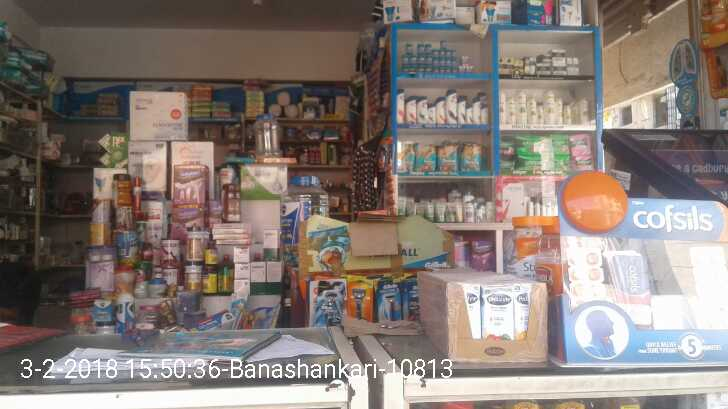beauty: (447, 89, 458, 123), (404, 96, 417, 122), (546, 91, 556, 122), (569, 53, 581, 78), (416, 96, 427, 122), (518, 94, 527, 125), (527, 96, 537, 123), (507, 97, 517, 123), (436, 98, 445, 124), (549, 64, 566, 76), (536, 60, 548, 76), (427, 104, 436, 123), (582, 99, 588, 126), (573, 104, 581, 124), (554, 50, 566, 62), (563, 107, 571, 123)
pharmacy: (511, 134, 554, 159), (458, 141, 485, 173), (413, 142, 437, 173), (515, 157, 553, 173), (435, 145, 455, 171), (569, 134, 590, 155), (495, 137, 515, 159), (550, 134, 568, 156), (569, 157, 592, 171), (416, 41, 432, 54), (460, 65, 477, 77), (460, 50, 471, 65), (438, 39, 446, 48)
